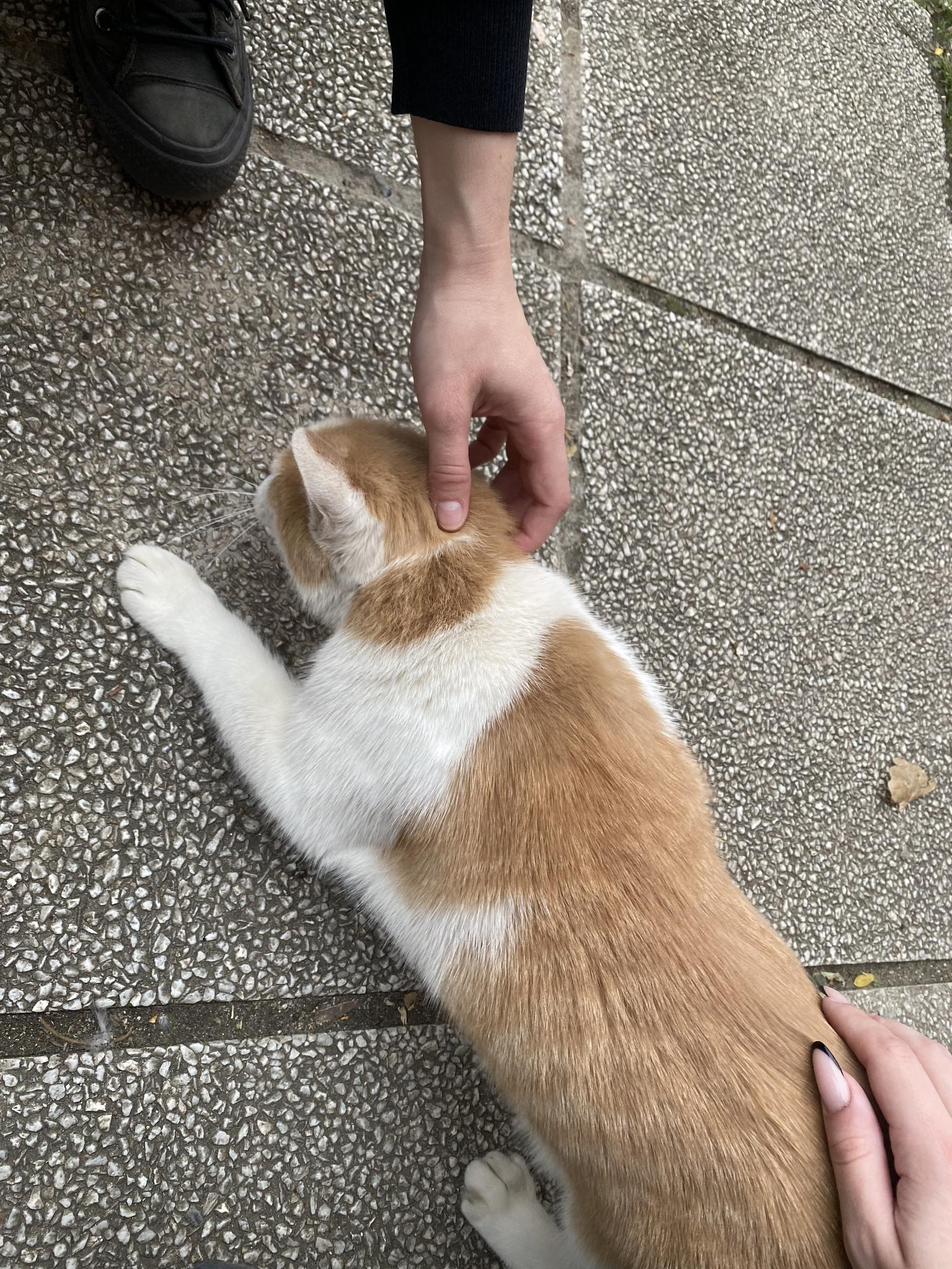macka: (115, 411, 952, 1269)
